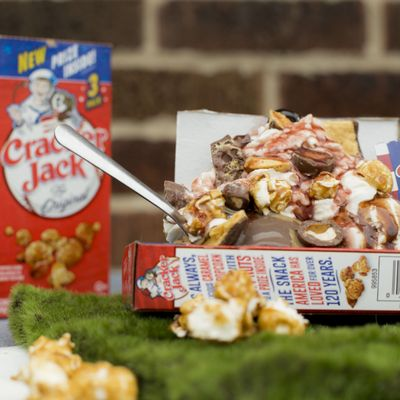pizza: (1, 64, 112, 220)
